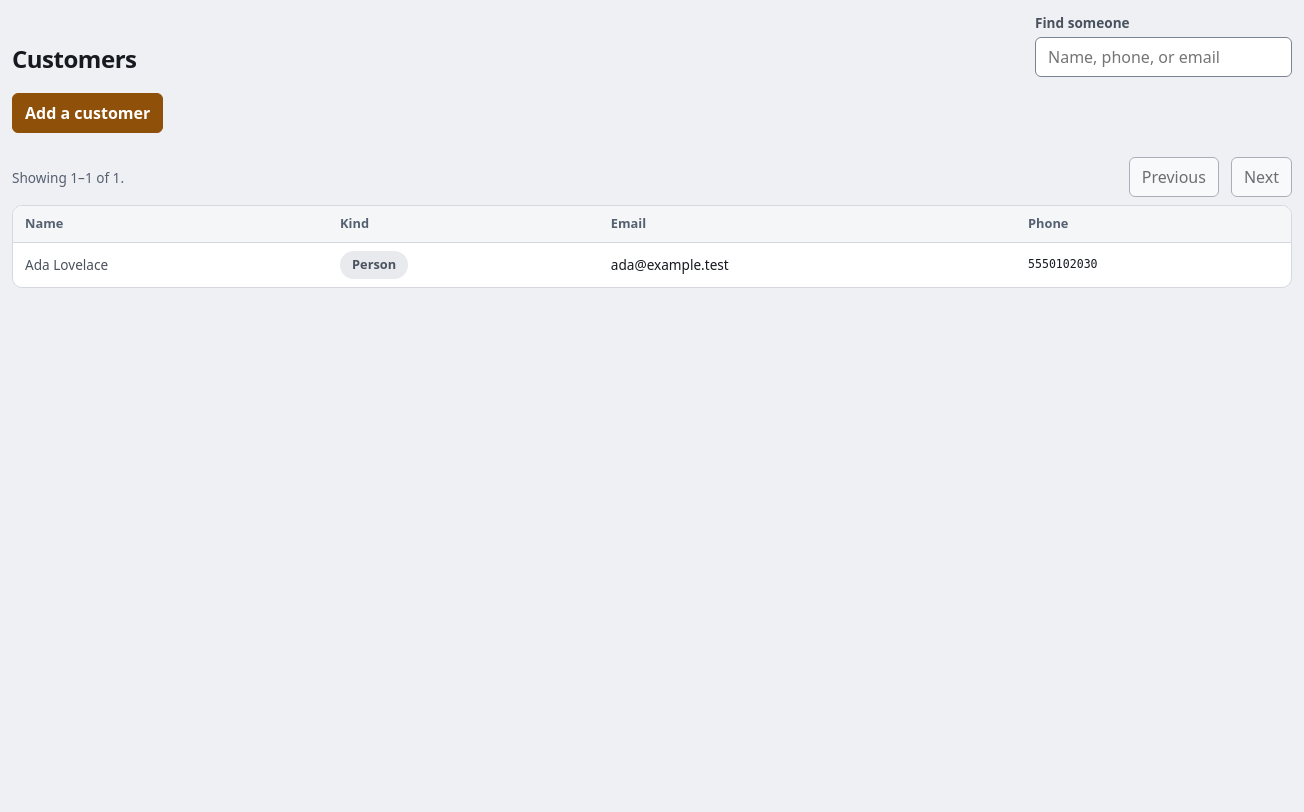
Scenario: adding a customer › looks for an existing record before creating one
Expected: the button "Ada Lovelace" is shown, top-left (25, 253), bottom-right (316, 277)
Click the button "Add a customer" at [88, 113], box top-left (12, 93), bottom-right (163, 133)
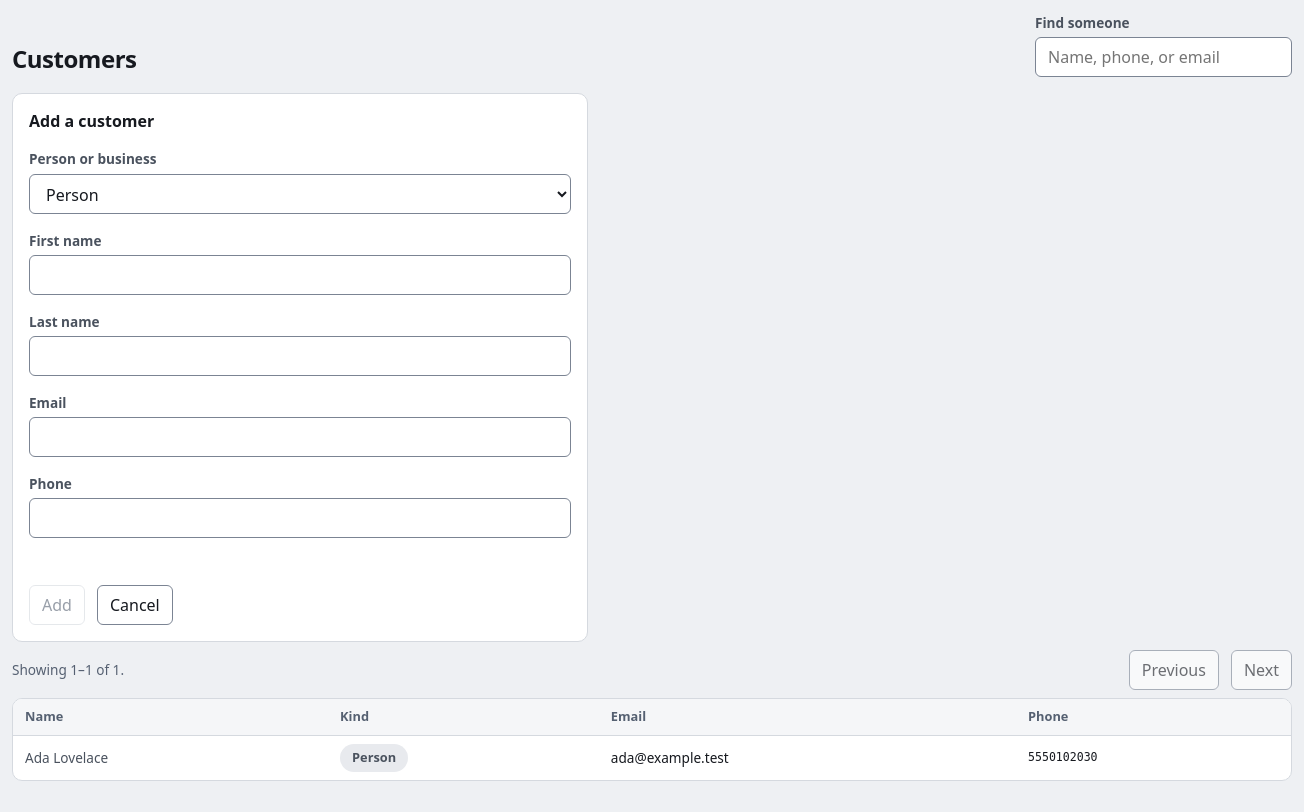
Type "Lovelace" into the field labelled "Last name" at [300, 356], box top-left (29, 336), bottom-right (571, 376)
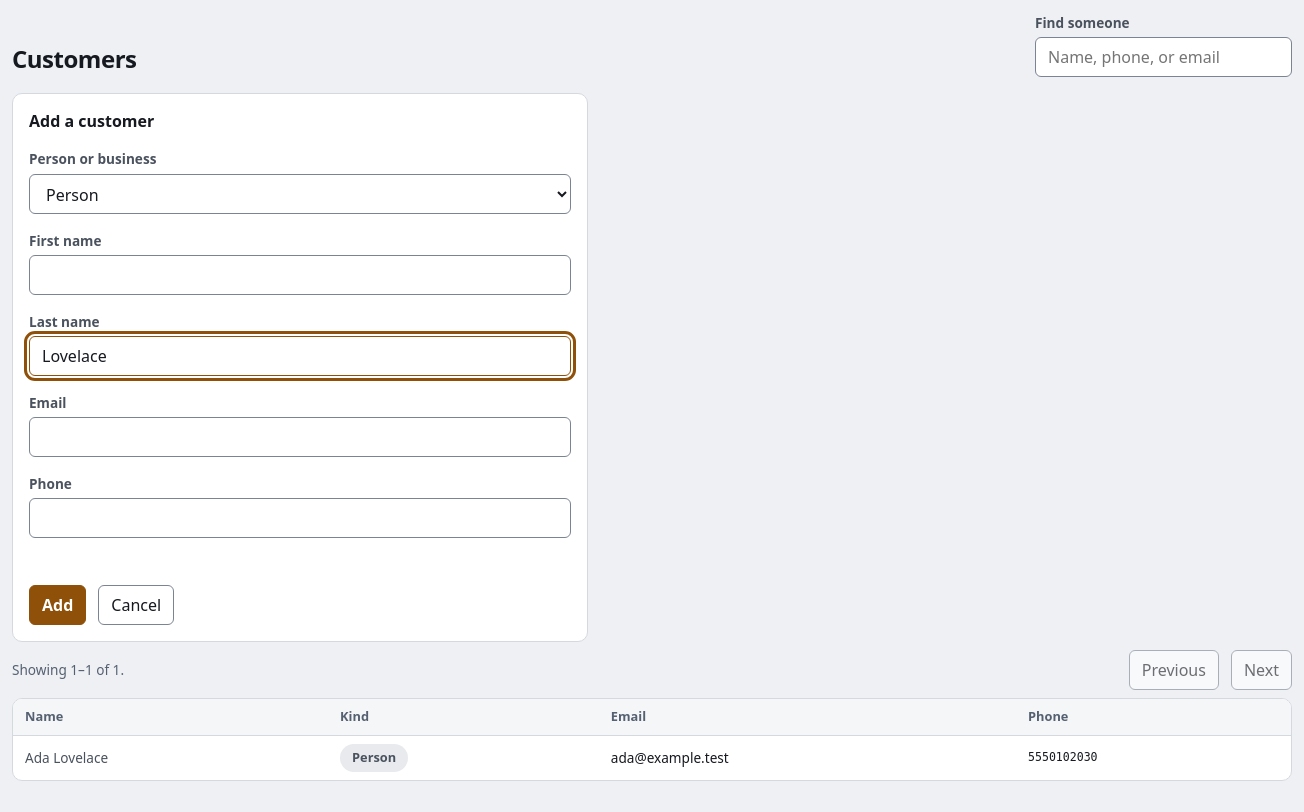
Click the button "Add" at [58, 605], box top-left (29, 585), bottom-right (86, 625)
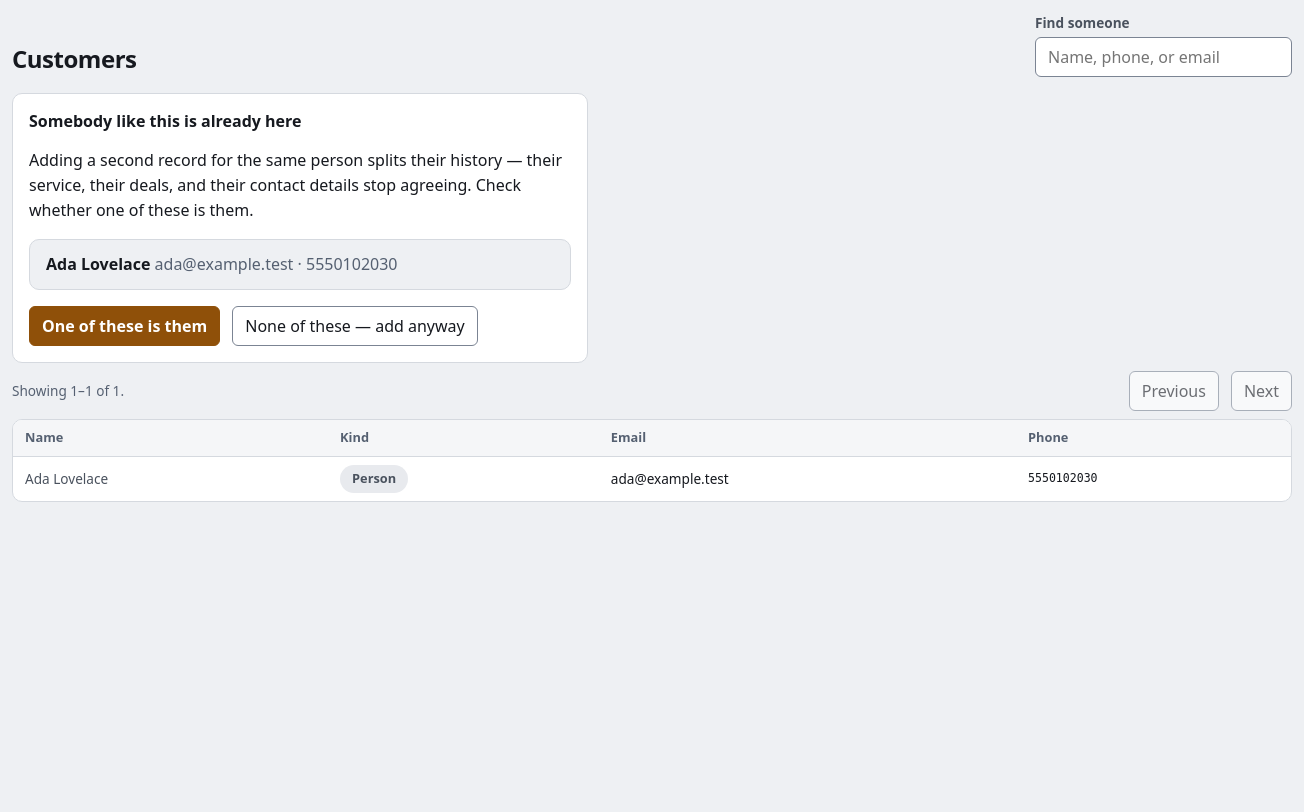
Expected: the heading "Somebody like this is already here" is shown, top-left (29, 110), bottom-right (301, 132)
